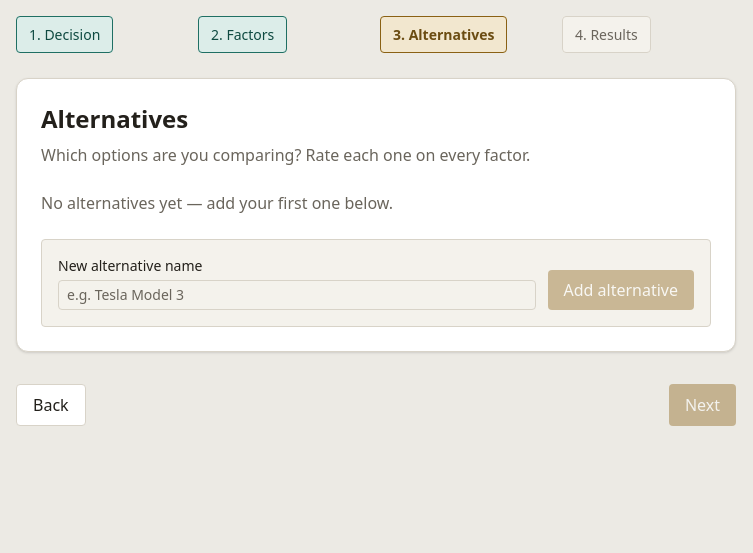
Test case: AlternativesStep — advancing › enables Next once at least one alternative exists
Check: the button "Next" is disabled, box [669,384,736,426]
Type "Leaf" into the field labelled "New alternative name" at (297,295), box [58,280,536,310]
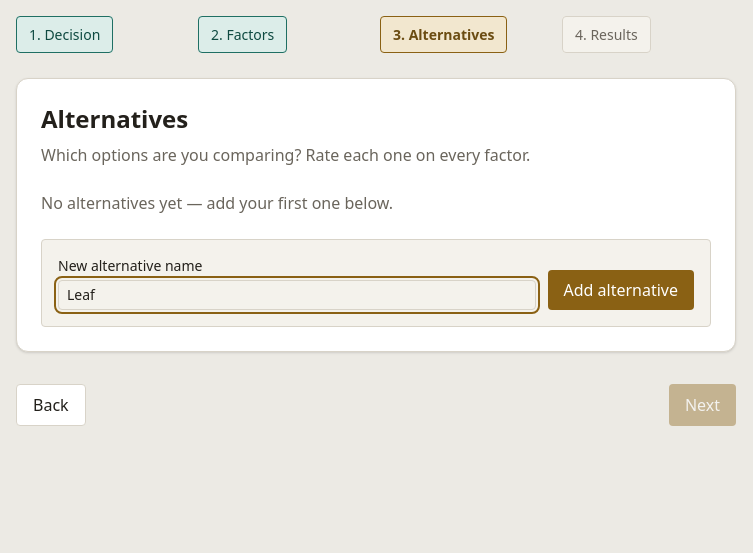
Click the button "Add alternative" at (621,290), box [548,270,694,310]
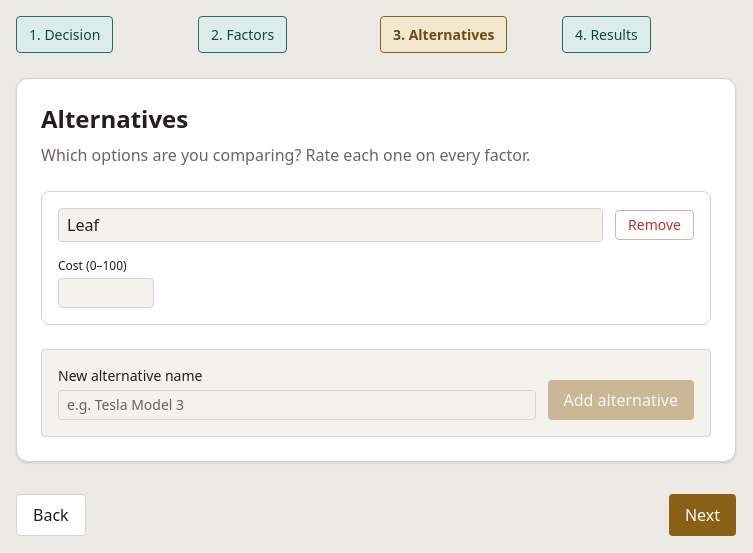
Check: the button "Next" is enabled, box [669,494,736,536]
